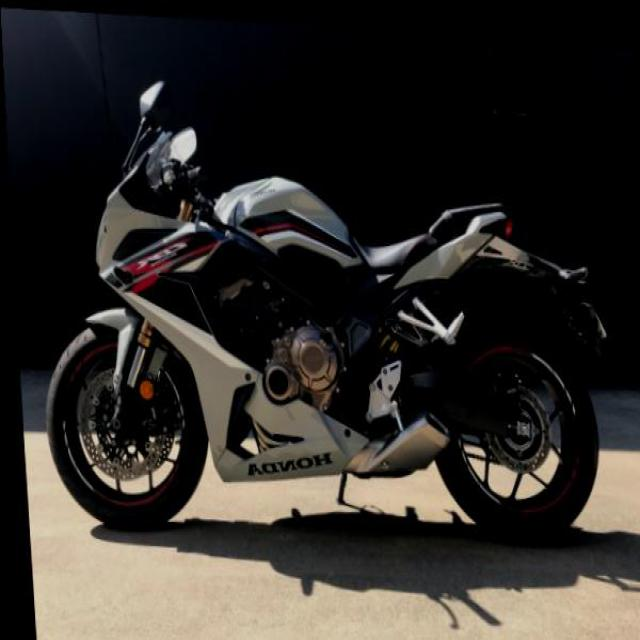CBR650R: (23, 99, 603, 564)
